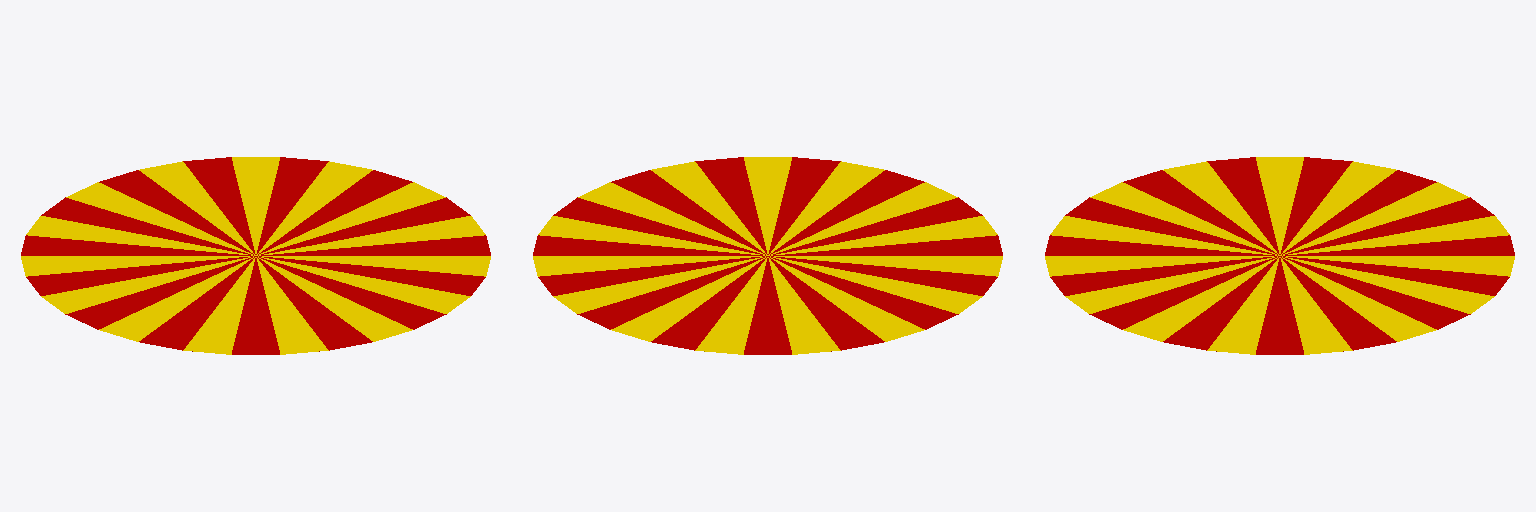
File: sun.obj
The picture shows the model from 3 angles: view 1: azimuth 30°, elevation 25°; view 2: azimuth 150°, elevation 25°; view 3: azimuth 270°, elevation 25°; orthographic projection.
Visible parts, largest first — view 1: 円; view 2: 円; view 3: 円.
Boxes of the visible parts, x1,y1,x2,y2 form: 円: [21, 157, 490, 354]; 円: [533, 157, 1002, 354]; 円: [1045, 157, 1514, 354].
Size of the model in its own units: 1.99 by 0.0001 by 2.